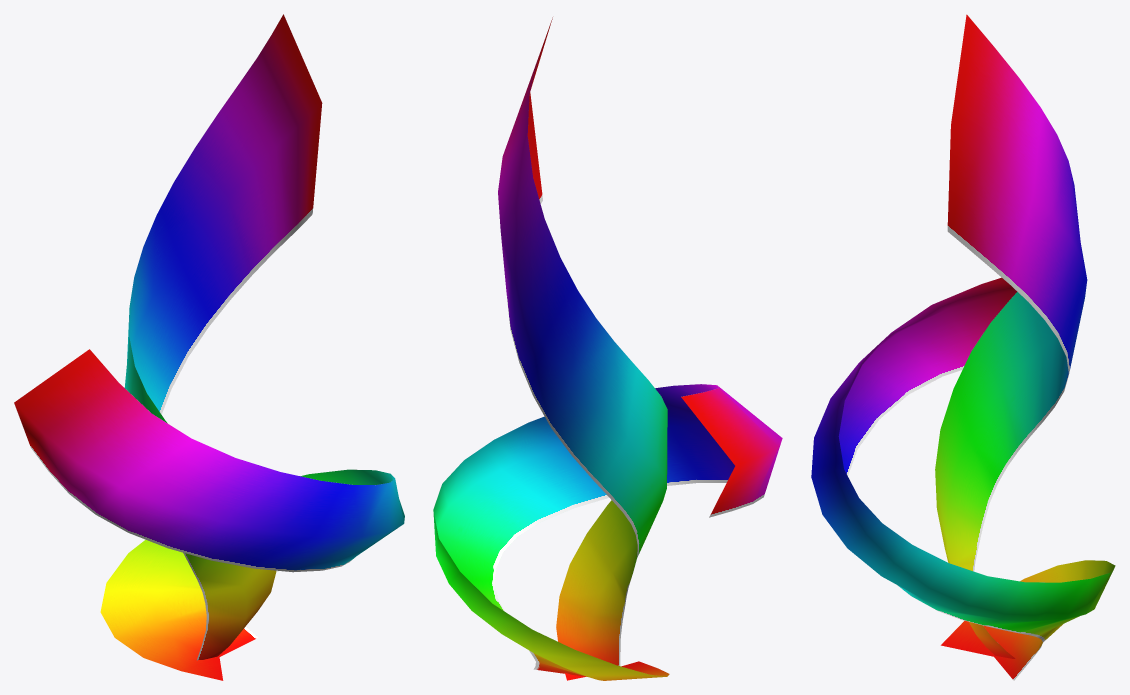
Rendered from effect_meirenyu_atk03_hit_donghua.fbx.
3 views of the same model, side by side, from view 1: azimuth 30°, elevation 25°; view 2: azimuth 150°, elevation 25°; view 3: azimuth 270°, elevation 25° (orthographic). The views are drawn at different scales.
Visible parts, largest first — view 1: effect_jmws_luoxuanxian_mo_02, effect_jmws_luoxuanxian_mo_02 (1); view 2: effect_jmws_luoxuanxian_mo_02 (1), effect_jmws_luoxuanxian_mo_02; view 3: effect_jmws_luoxuanxian_mo_02 (1), effect_jmws_luoxuanxian_mo_02.
Part boxes in pixels (x1=…): effect_jmws_luoxuanxian_mo_02: x1=14, y1=349, x2=404, y2=680; effect_jmws_luoxuanxian_mo_02 (1): x1=124, y1=14, x2=322, y2=660; effect_jmws_luoxuanxian_mo_02 (1): x1=498, y1=17, x2=667, y2=680; effect_jmws_luoxuanxian_mo_02: x1=433, y1=384, x2=782, y2=680; effect_jmws_luoxuanxian_mo_02 (1): x1=935, y1=14, x2=1087, y2=658; effect_jmws_luoxuanxian_mo_02: x1=811, y1=277, x2=1115, y2=680.
Size of the model in its own units: 1.89 by 3.47 by 1.43.
